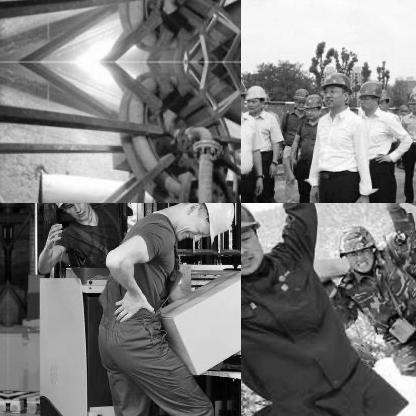Helmet: (168, 203, 235, 243), (333, 218, 379, 274), (241, 203, 270, 277), (320, 68, 350, 107), (47, 203, 92, 220), (358, 79, 382, 109), (243, 82, 265, 112), (306, 92, 326, 118), (376, 85, 392, 113), (289, 85, 305, 111), (406, 89, 415, 114)
